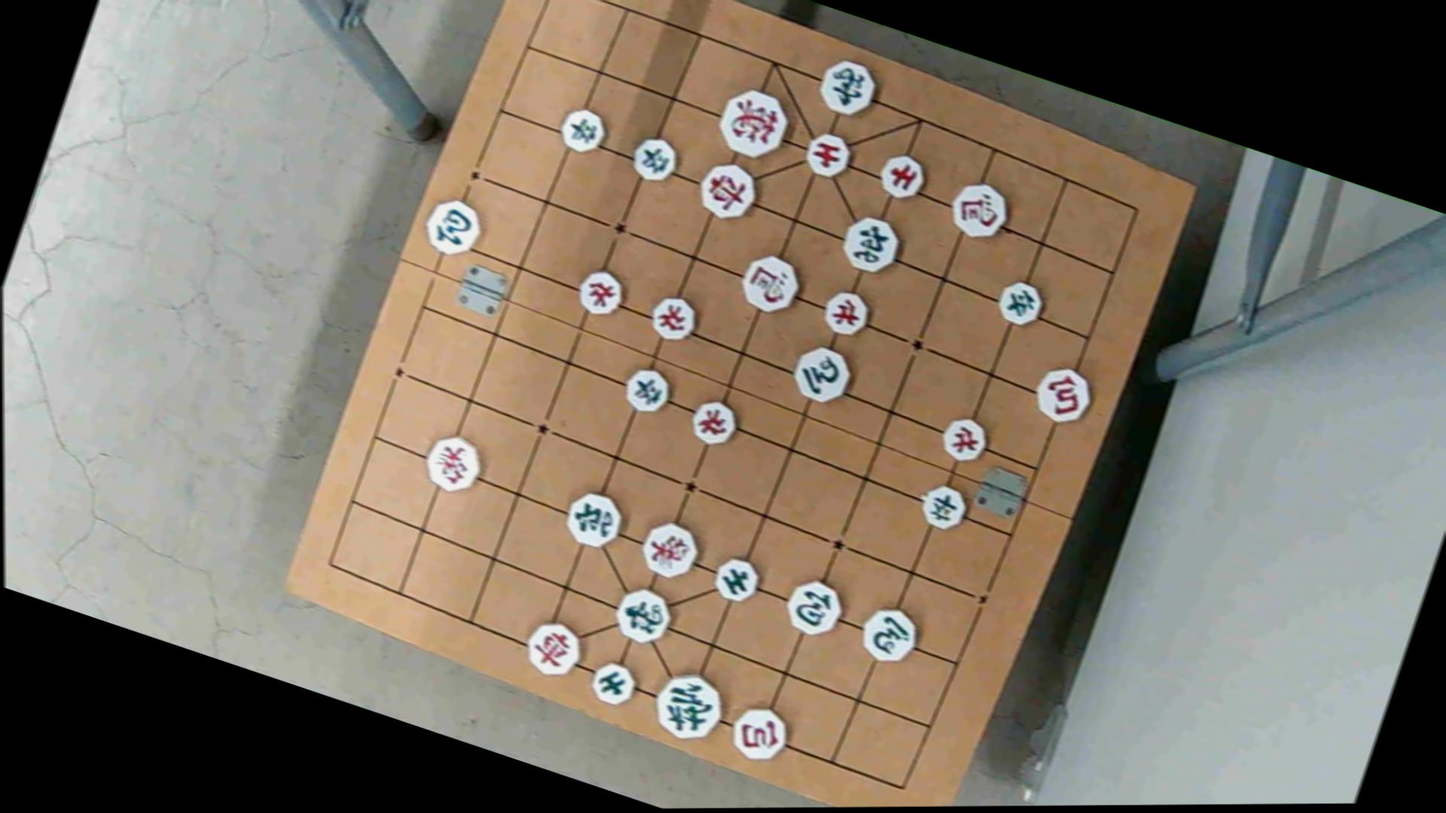cha_green: (836, 209, 908, 276), (560, 488, 630, 553)
cha_red: (517, 615, 589, 686), (692, 160, 764, 225)
jol_green: (617, 361, 674, 418), (624, 133, 684, 186), (555, 106, 613, 159), (914, 482, 972, 534), (992, 278, 1048, 330)
jol_red: (571, 260, 632, 321), (685, 395, 743, 448), (642, 294, 701, 346), (819, 287, 876, 340), (936, 413, 993, 465)
ma_green: (785, 342, 858, 408), (853, 602, 924, 668)
ma_red: (943, 174, 1020, 246), (737, 249, 810, 318)
po_green: (416, 194, 490, 259), (781, 576, 851, 641)
po_red: (725, 700, 795, 767), (1027, 364, 1098, 428)
sa_green: (706, 550, 767, 609), (585, 656, 644, 709)
sa_red: (797, 128, 856, 183), (874, 149, 932, 202)
sang_green: (810, 56, 882, 122), (609, 581, 679, 647)
sang_red: (633, 516, 704, 582), (418, 431, 487, 495)
wang_green: (647, 668, 732, 746)
wang_red: (712, 83, 798, 161)
